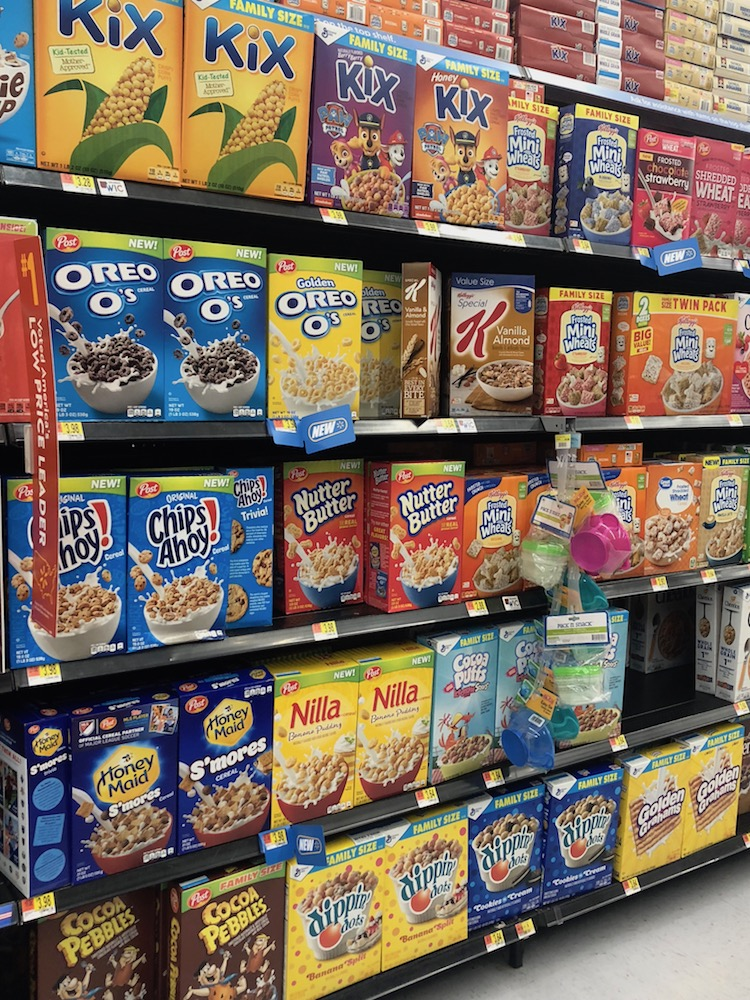Chips Ahoys-565717529: (6, 479, 132, 661), (122, 478, 225, 641)
Cocoa Puffs Ice Cream-563408546: (430, 632, 509, 771)
Dippin Dots Banana-568929376: (285, 851, 384, 986), (382, 830, 472, 966)
Dippin Dots Cookies & Cream -568929378: (467, 801, 542, 902), (548, 789, 619, 883)
Nilla -568301014: (266, 666, 356, 818), (351, 658, 432, 803)
Nutter Butter-565717511: (374, 469, 476, 611), (281, 464, 378, 611)
Oreo Golden-568301011: (270, 249, 364, 423)
Oreo-563424384: (51, 221, 171, 418), (164, 234, 276, 411)
